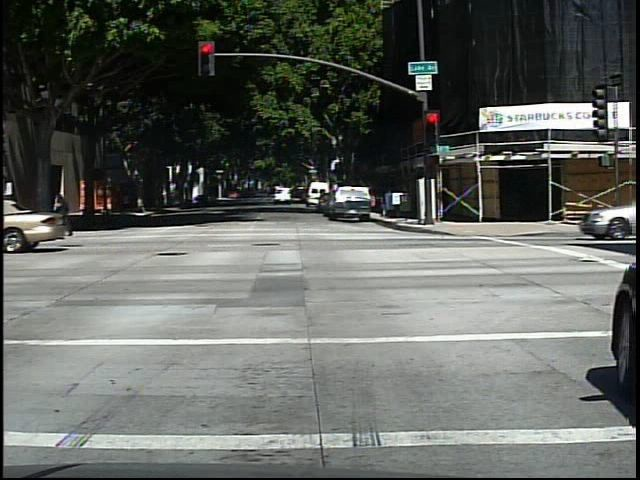person: (46, 187, 76, 239)
